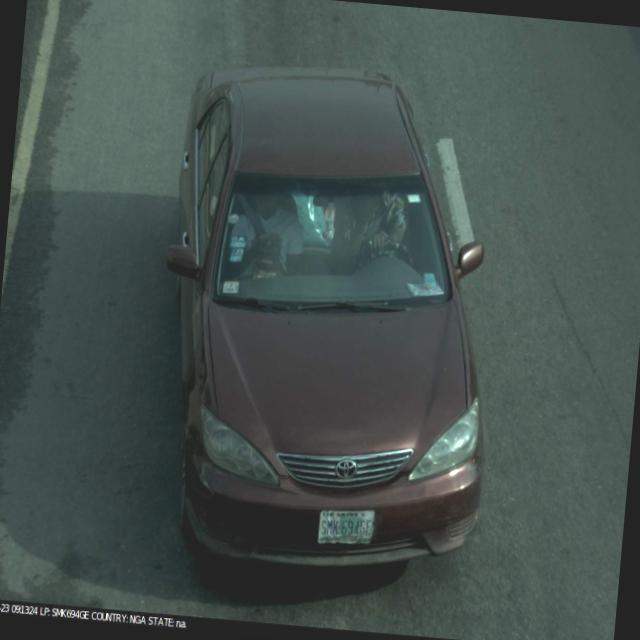windshield: (208, 165, 461, 314)
